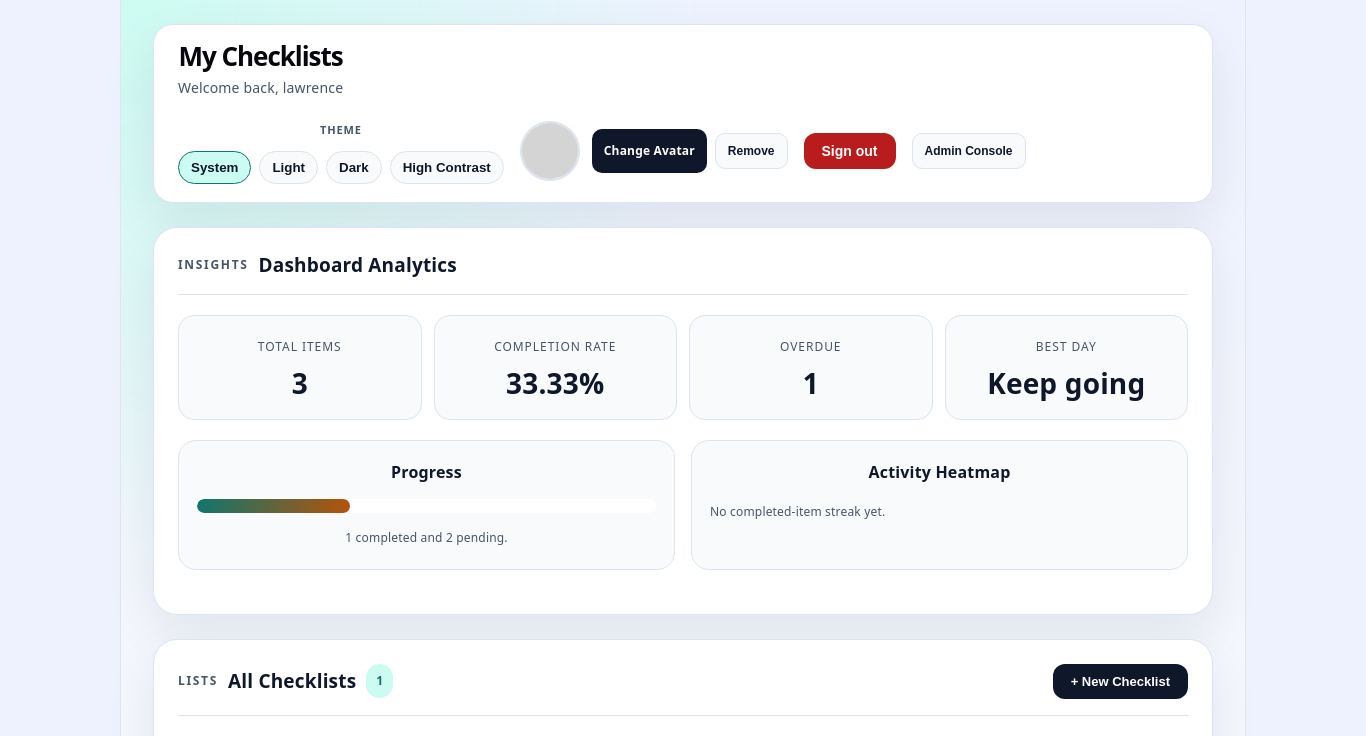
Scenario: Dashboard › shows an error when removing an avatar fails
The image size is (1366, 736).
Expected: the text "Welcome back, lawrence" is shown, [178, 75, 343, 101]
Click the button "Remove": (751, 151) [715, 133, 788, 169]
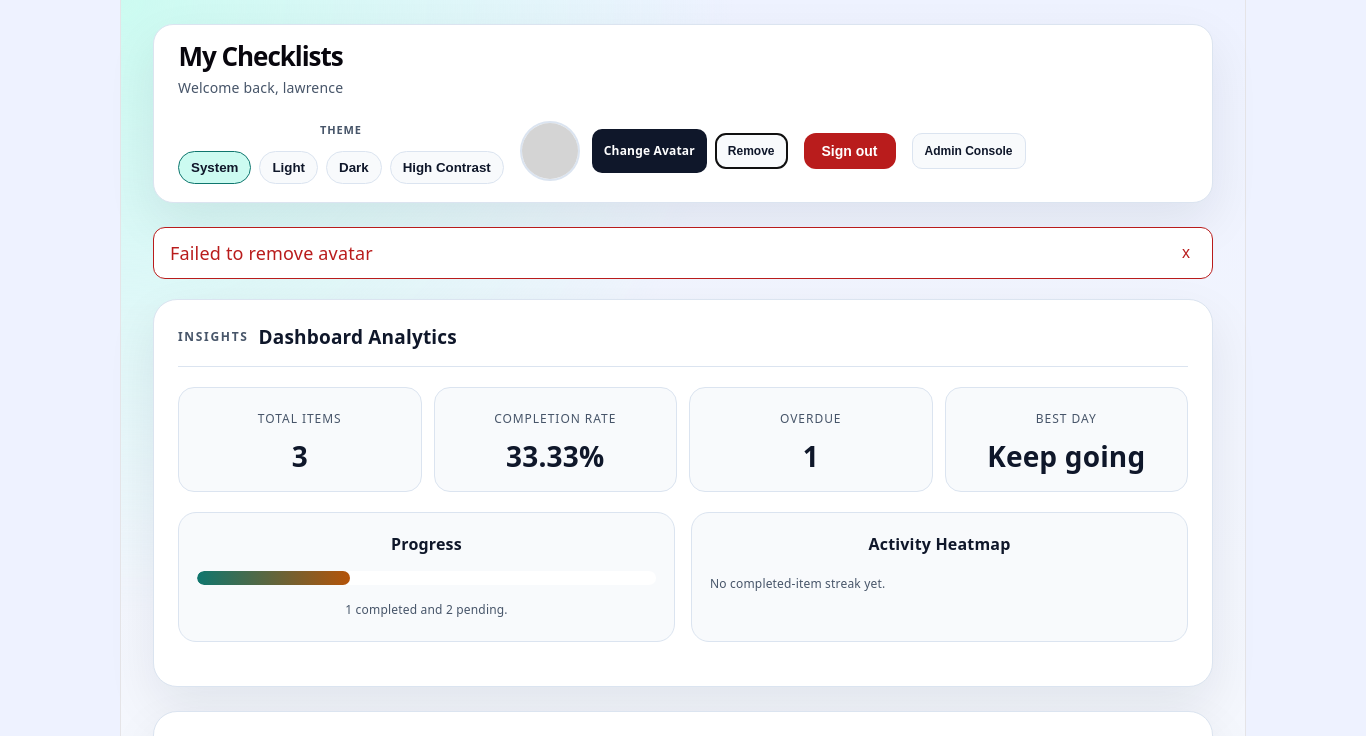
Now the text "Failed to remove avatar" is shown, box [170, 241, 373, 265]
